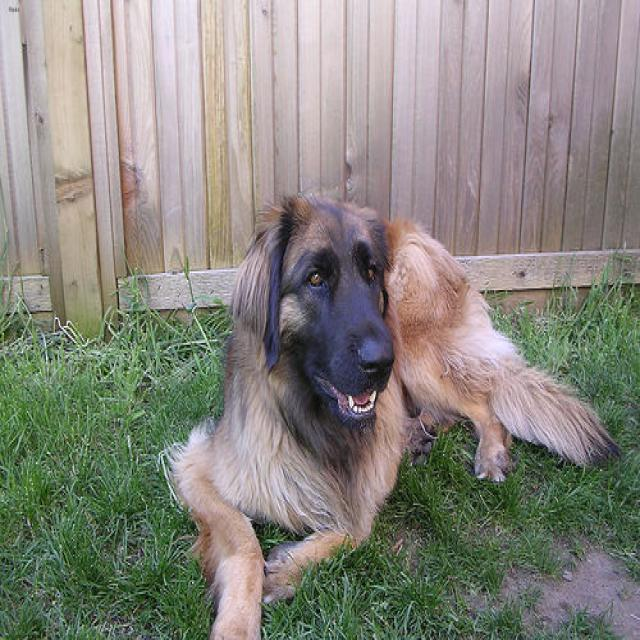dog-leonberger: (156, 184, 637, 637)
